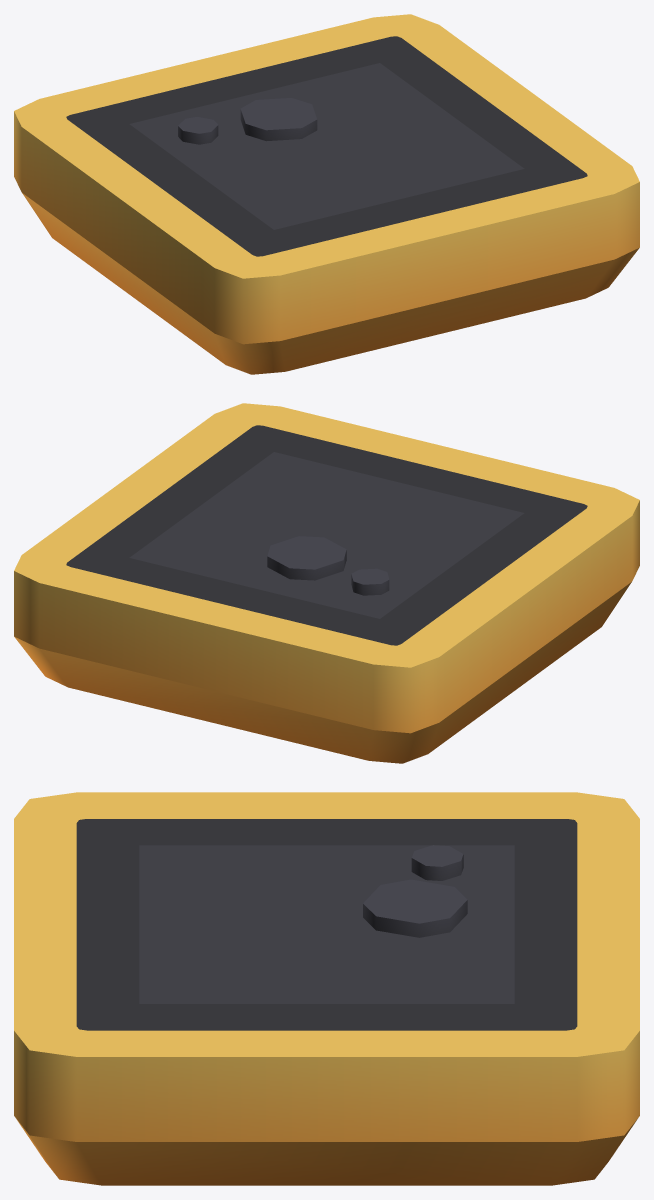
File: platformer_platform.glb
3 renders of one model, top to bottom at view 1: azimuth 30°, elevation 25°; view 2: azimuth 150°, elevation 25°; view 3: azimuth 270°, elevation 25°, orthographic. The views are drawn at different scales.
Visible parts, largest first — view 1: platform; view 2: platform; view 3: platform.
Part boxes in pixels (x1,y1,x2,y2): platform: (14, 14, 639, 374); platform: (14, 403, 639, 763); platform: (14, 792, 639, 1185).
Size of the model in its own units: 2 by 0.55 by 2.
1 material, 1 textured.
